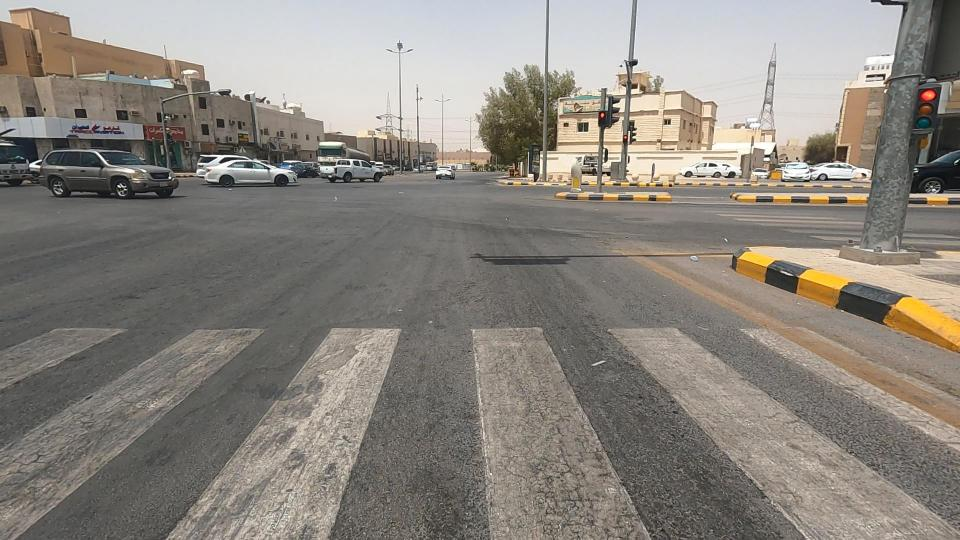GARBAGE: (676, 232, 717, 281), (314, 178, 358, 223)
